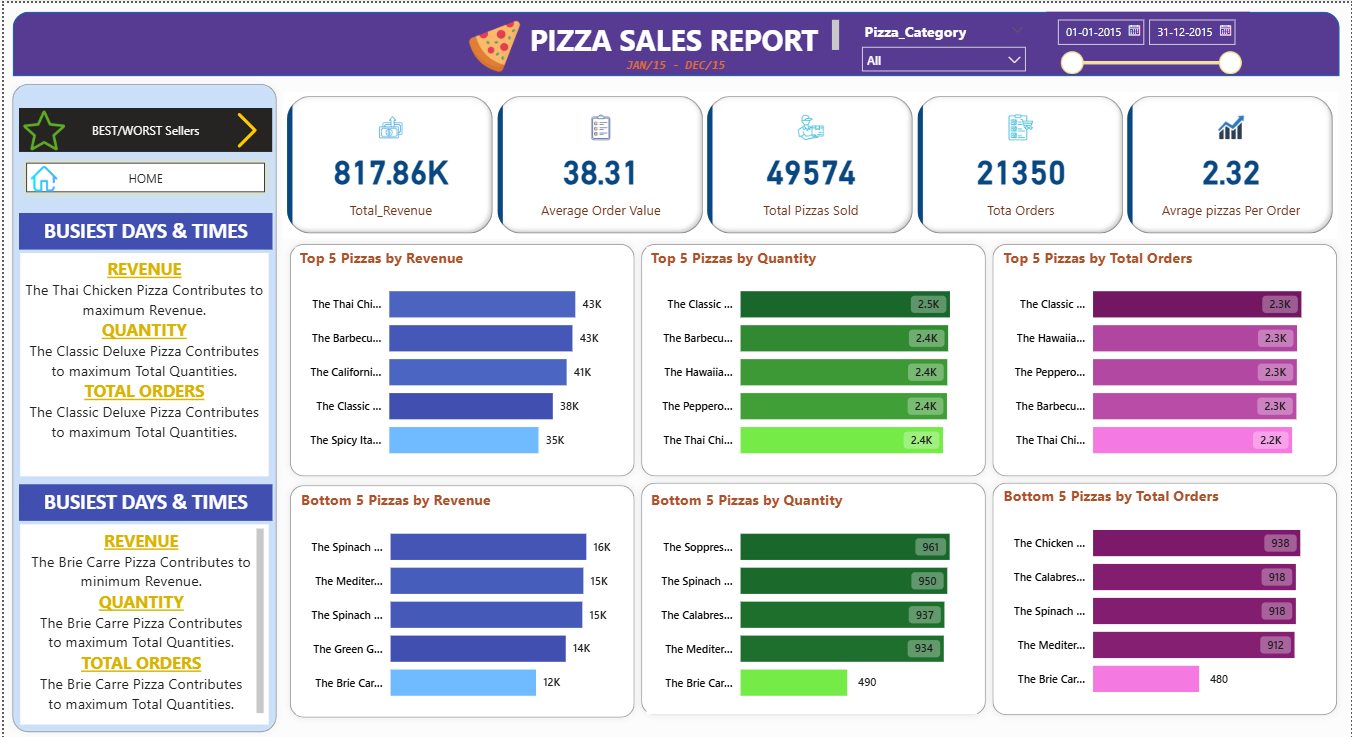

The dashboard page shown, as its layout file describes it:
{"tool":"powerbi","page":{"name":"BEST/WORST Sellers","canvas":[1500,820],"ordinal":1},"visuals":[{"type":"shape","box":[10.3,10.3,1478.2,71.8],"z":0},{"type":"shape","box":[1.5,81.8,310.3,738.2],"z":1000},{"type":"cardVisual","fields":{"Data":["pizza_sales.Total_Revenue","pizza_sales.Average Order Value","pizza_sales.Total Pizzas Sold","pizza_sales.Tota Orders","pizza_sales.Avrage pizzas Per Order"]},"box":[310,98.8,1175,163.8],"z":2000},{"type":"textbox","box":[564.1,14.1,371.8,47.4],"z":3000},{"type":"textbox","box":[665.4,53.8,165.4,29.5],"z":4000},{"type":"image","box":[510.3,14.1,74.4,69.2],"z":5000},{"type":"shape","box":[310.3,260.3,400,275],"z":6000},{"type":"textbox","box":[16.2,233.8,282.4,41.2],"z":7000},{"type":"textbox","box":[16.2,536.8,282.4,41.2],"z":8000},{"type":"textbox","box":[17.6,277.9,276.5,248.5],"z":9000},{"type":"textbox","box":[17.6,580.9,276.5,223.5],"z":10000},{"type":"slicer","fields":{"Values":["pizza_sales.pizza_category"]},"box":[946.2,15.4,202.6,64.1],"z":11000},{"type":"slicer","fields":{"Values":["pizza_sales.order_date"]},"box":[1161.5,10.3,225.6,69.2],"z":12000},{"type":"shape","box":[1092.6,260.3,400,275],"z":13000},{"type":"shape","box":[701.5,260.3,400,275],"z":14000},{"type":"shape","box":[310.3,529.4,400,275],"z":15000},{"type":"shape","box":[701.5,526.5,400,275],"z":16000},{"type":"shape","box":[1092.6,526.5,400,275],"z":17000},{"type":"barChart","title":"Top 5 Pizzas by Revenue","fields":{"Category":["pizza_sales.pizza_name"],"Y":["pizza_sales.Total_Revenue"]},"box":[325,272.1,367.6,251.5],"z":18000},{"type":"barChart","title":"Bottom 5 Pizzas by Revenue","fields":{"Category":["pizza_sales.pizza_name"],"Y":["pizza_sales.Total_Revenue"]},"box":[326.5,541.2,367.6,251.5],"z":19000},{"type":"barChart","title":"Top 5 Pizzas by Quantity","fields":{"Category":["pizza_sales.pizza_name"],"Y":["pizza_sales.Total Pizzas Sold"]},"box":[716.2,272.1,367.6,251.5],"z":20000},{"type":"barChart","title":"Bottom 5 Pizzas by Quantity","fields":{"Category":["pizza_sales.pizza_name"],"Y":["pizza_sales.Total Pizzas Sold"]},"box":[716.2,541.2,367.6,251.5],"z":21000},{"type":"barChart","title":"Top 5 Pizzas by Total Orders","fields":{"Category":["pizza_sales.pizza_name"],"Y":["pizza_sales.Tota Orders"]},"box":[1108.8,272.1,367.6,251.5],"z":22000},{"type":"barChart","title":"Bottom 5 Pizzas by Total Orders","fields":{"Category":["pizza_sales.pizza_name"],"Y":["pizza_sales.Tota Orders"]},"box":[1108.8,538.2,367.6,251.5],"z":23000},{"type":"pageNavigator","box":[16.2,170.6,282.4,50],"z":24000},{"type":"pageNavigator","box":[16.2,117.6,282.4,50],"z":25000},{"type":"image","box":[244.1,117.6,54.4,50],"z":26000},{"type":"image","box":[25,175,39.7,41.2],"z":27000},{"type":"image","box":[16.2,110.3,55.9,64.7],"z":28000}]}

Visuals, with their boxes in screenshot pixels (x1, y1, x2, y2), scaled from the page's 1500x820 canvas onto the 1352x737 screenshot:
shape: {"x1": 9, "y1": 9, "x2": 1342, "y2": 74}
shape: {"x1": 1, "y1": 74, "x2": 281, "y2": 736}
cardVisual - pizza_sales.Total_Revenue x pizza_sales.Average Order Value: {"x1": 279, "y1": 89, "x2": 1338, "y2": 236}
textbox: {"x1": 508, "y1": 13, "x2": 844, "y2": 55}
textbox: {"x1": 600, "y1": 48, "x2": 749, "y2": 75}
image: {"x1": 460, "y1": 13, "x2": 527, "y2": 75}
shape: {"x1": 280, "y1": 234, "x2": 640, "y2": 481}
textbox: {"x1": 15, "y1": 210, "x2": 269, "y2": 247}
textbox: {"x1": 15, "y1": 482, "x2": 269, "y2": 519}
textbox: {"x1": 16, "y1": 250, "x2": 265, "y2": 473}
textbox: {"x1": 16, "y1": 522, "x2": 265, "y2": 723}
slicer - pizza_sales.pizza_category: {"x1": 853, "y1": 14, "x2": 1035, "y2": 71}
slicer - pizza_sales.order_date: {"x1": 1047, "y1": 9, "x2": 1250, "y2": 71}
shape: {"x1": 985, "y1": 234, "x2": 1345, "y2": 481}
shape: {"x1": 632, "y1": 234, "x2": 993, "y2": 481}
shape: {"x1": 280, "y1": 476, "x2": 640, "y2": 723}
shape: {"x1": 632, "y1": 473, "x2": 993, "y2": 720}
shape: {"x1": 985, "y1": 473, "x2": 1345, "y2": 720}
"Top 5 Pizzas by Revenue" barChart: {"x1": 293, "y1": 245, "x2": 624, "y2": 471}
"Bottom 5 Pizzas by Revenue" barChart: {"x1": 294, "y1": 486, "x2": 626, "y2": 712}
"Top 5 Pizzas by Quantity" barChart: {"x1": 646, "y1": 245, "x2": 977, "y2": 471}
"Bottom 5 Pizzas by Quantity" barChart: {"x1": 646, "y1": 486, "x2": 977, "y2": 712}
"Top 5 Pizzas by Total Orders" barChart: {"x1": 999, "y1": 245, "x2": 1331, "y2": 471}
"Bottom 5 Pizzas by Total Orders" barChart: {"x1": 999, "y1": 484, "x2": 1331, "y2": 710}
pageNavigator: {"x1": 15, "y1": 153, "x2": 269, "y2": 198}
pageNavigator: {"x1": 15, "y1": 106, "x2": 269, "y2": 151}
image: {"x1": 220, "y1": 106, "x2": 269, "y2": 151}
image: {"x1": 23, "y1": 157, "x2": 58, "y2": 194}
image: {"x1": 15, "y1": 99, "x2": 65, "y2": 157}
